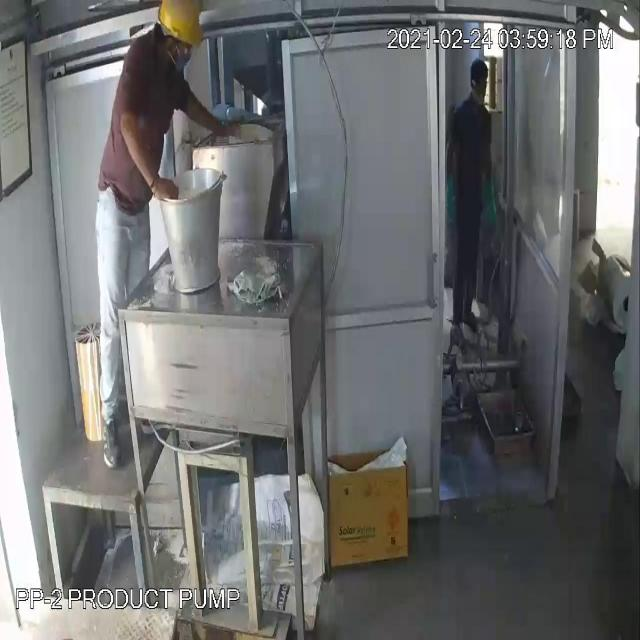hat: (153, 1, 209, 60)
